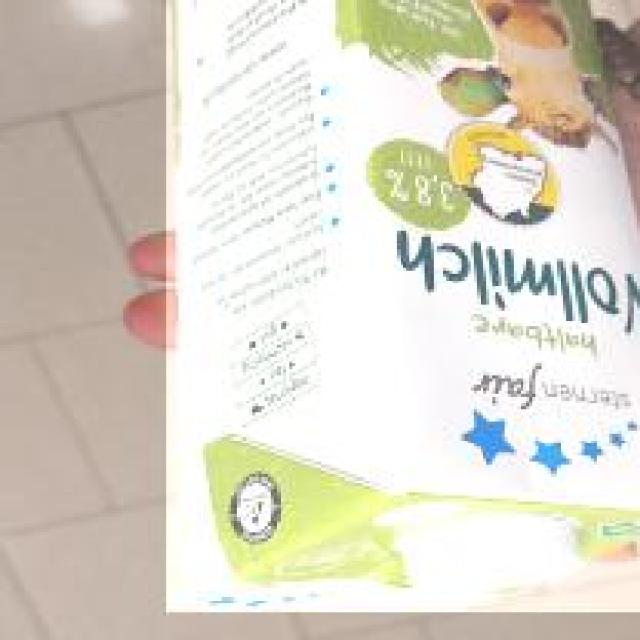milk: (160, 0, 640, 612)
